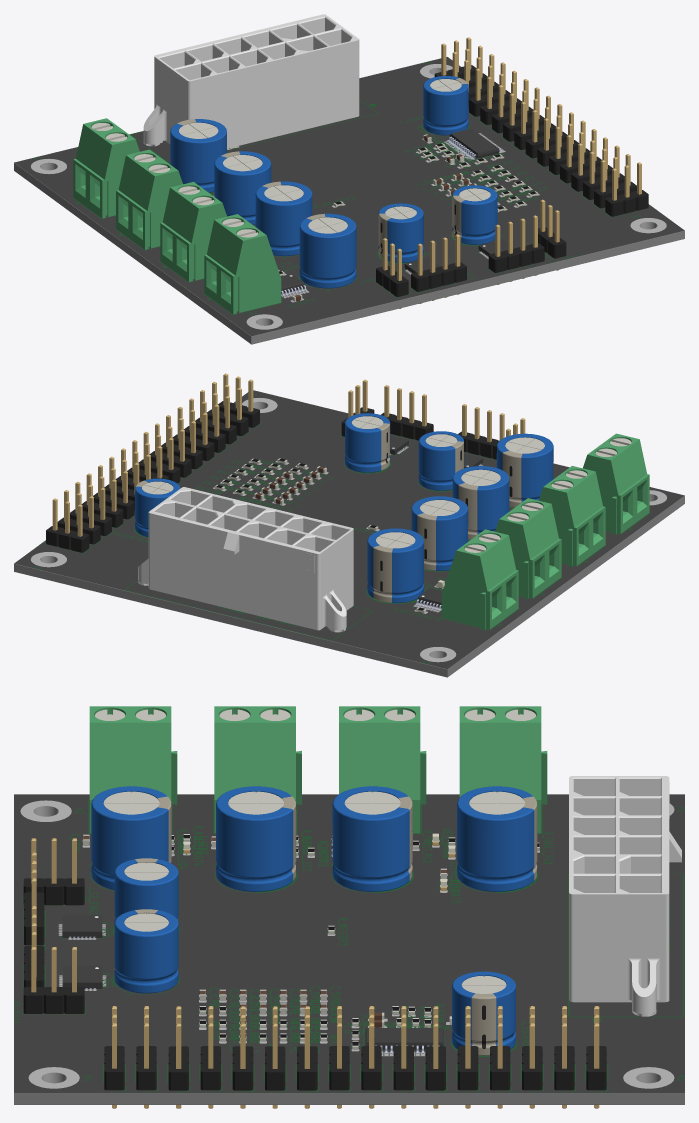
File: robodev-actuators.glb
3 views of the same model, one above another, from view 1: azimuth 30°, elevation 25°; view 2: azimuth 150°, elevation 25°; view 3: azimuth 270°, elevation 25° (orthographic). The views are drawn at different scales.
Parts seen in each view (by area): view 1: =>[0:1:1:16], =>[0:1:1:17], =>[0:1:1:2], J_M4, J_M3, J_M2, J_M1, C_VM4, C_VM3, C_VM1, =>[0:1:1:15], C_VM2 (+24 smaller); view 2: =>[0:1:1:17], =>[0:1:1:16], =>[0:1:1:2], J_M1, J_M4, J_M3, J_M2, C_VM1, C_VM2, C_VM4, C_VM3, =>[0:1:1:15] (+22 smaller); view 3: =>[0:1:1:16], =>[0:1:1:17], =>[0:1:1:2], =>[0:1:1:15], C_VM2, C_VM1, C_VM3, J_M2, J_M1, J_M4, J_M3, C_VM4 (+26 smaller).
Boxes of the visible parts, <box> form: =>[0:1:1:16]: <box>14,57,684,344</box>; =>[0:1:1:17]: <box>14,57,684,344</box>; =>[0:1:1:2]: <box>143,14,359,148</box>; J_M4: <box>204,214,281,314</box>; J_M3: <box>160,182,226,281</box>; J_M2: <box>116,149,182,249</box>; J_M1: <box>73,118,139,218</box>; C_VM4: <box>299,213,356,288</box>; C_VM3: <box>255,181,312,256</box>; C_VM1: <box>170,119,226,192</box>; =>[0:1:1:15]: <box>32,61,653,315</box>; C_VM2: <box>214,151,271,224</box>; =>[0:1:1:17]: <box>14,391,684,677</box>; =>[0:1:1:16]: <box>14,390,684,677</box>; =>[0:1:1:2]: <box>138,487,353,632</box>; J_M1: <box>441,529,518,630</box>; J_M4: <box>583,433,649,534</box>; J_M3: <box>538,466,605,566</box>; J_M2: <box>495,498,561,599</box>; C_VM1: <box>367,528,423,603</box>; C_VM2: <box>411,496,468,570</box>; C_VM4: <box>496,433,553,507</box>; C_VM3: <box>452,466,509,539</box>; =>[0:1:1:15]: <box>33,422,650,664</box>; =>[0:1:1:16]: <box>14,794,684,1104</box>; =>[0:1:1:17]: <box>14,795,684,1104</box>; =>[0:1:1:2]: <box>569,776,681,1016</box>; =>[0:1:1:15]: <box>14,799,684,1092</box>; C_VM2: <box>332,786,412,891</box>; C_VM1: <box>457,786,537,891</box>; C_VM3: <box>216,786,296,891</box>; J_M2: <box>339,706,426,833</box>; J_M1: <box>459,706,547,833</box>; J_M4: <box>89,706,177,833</box>; J_M3: <box>214,706,301,833</box>; C_VM4: <box>91,786,171,889</box>.
Bounding box in the file's own units: 0.088 × 0.0186 × 0.0835.
